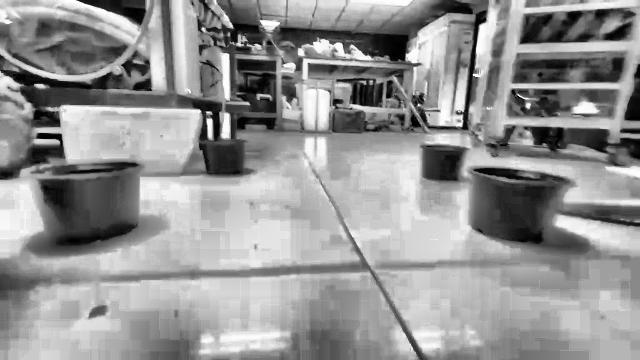pot: (29, 161, 142, 245), (470, 166, 570, 243), (421, 144, 467, 181), (201, 139, 245, 175)
